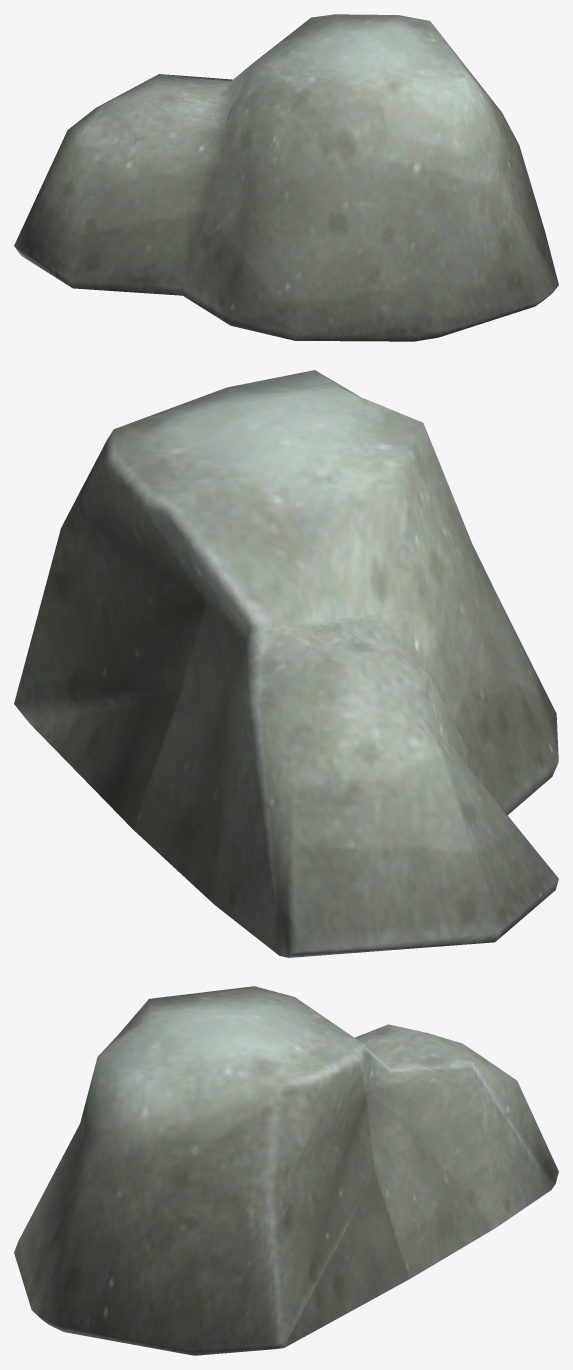
The model's file is stoneC.glb.
The picture shows the model from 3 angles, top to bottom: view 1: azimuth 30°, elevation 25°; view 2: azimuth 150°, elevation 25°; view 3: azimuth 270°, elevation 25°; orthographic projection. The views are drawn at different scales.
Parts seen in each view (by area): view 1: stoneC__mStoneC; view 2: stoneC__mStoneC; view 3: stoneC__mStoneC.
Boxes of the visible parts, x1=… form: stoneC__mStoneC: x1=14, y1=14, x2=558, y2=341; stoneC__mStoneC: x1=14, y1=370, x2=558, y2=957; stoneC__mStoneC: x1=14, y1=986, x2=558, y2=1355.
Size of the model in its own units: 9.82 by 5.22 by 9.95.
Materials: 1 (1 with a texture image).
